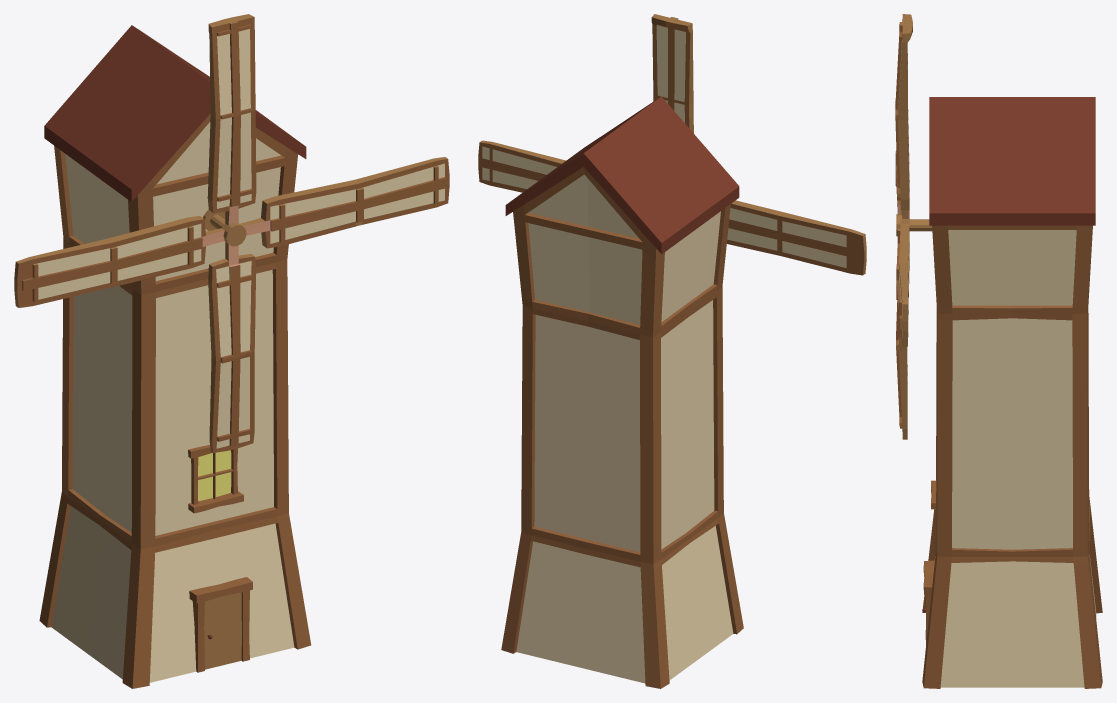
The model's file is Windmill.fbx.
3 views of the same model, side by side, from view 1: azimuth 30°, elevation 25°; view 2: azimuth 150°, elevation 25°; view 3: azimuth 270°, elevation 25° (orthographic). The views are drawn at different scales.
Parts seen in each view (by area): view 1: Windmill; view 2: Windmill; view 3: Windmill.
Part boxes in pixels (x1,y1,x2,y2): Windmill: [14, 14, 449, 688]; Windmill: [478, 14, 866, 688]; Windmill: [895, 14, 1102, 688].
Size of the model in its own units: 982 by 1419 by 428.
